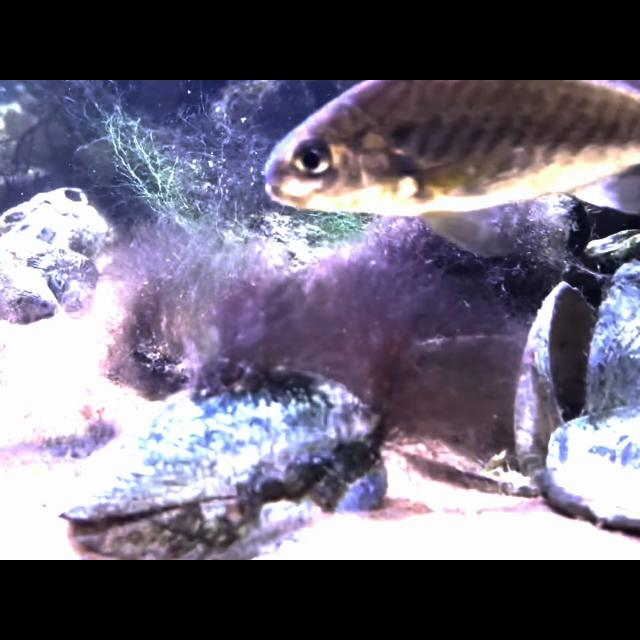Oyster-Closed: (539, 407, 640, 526)
Oyster-Open: (58, 362, 384, 560), (507, 277, 640, 481)
